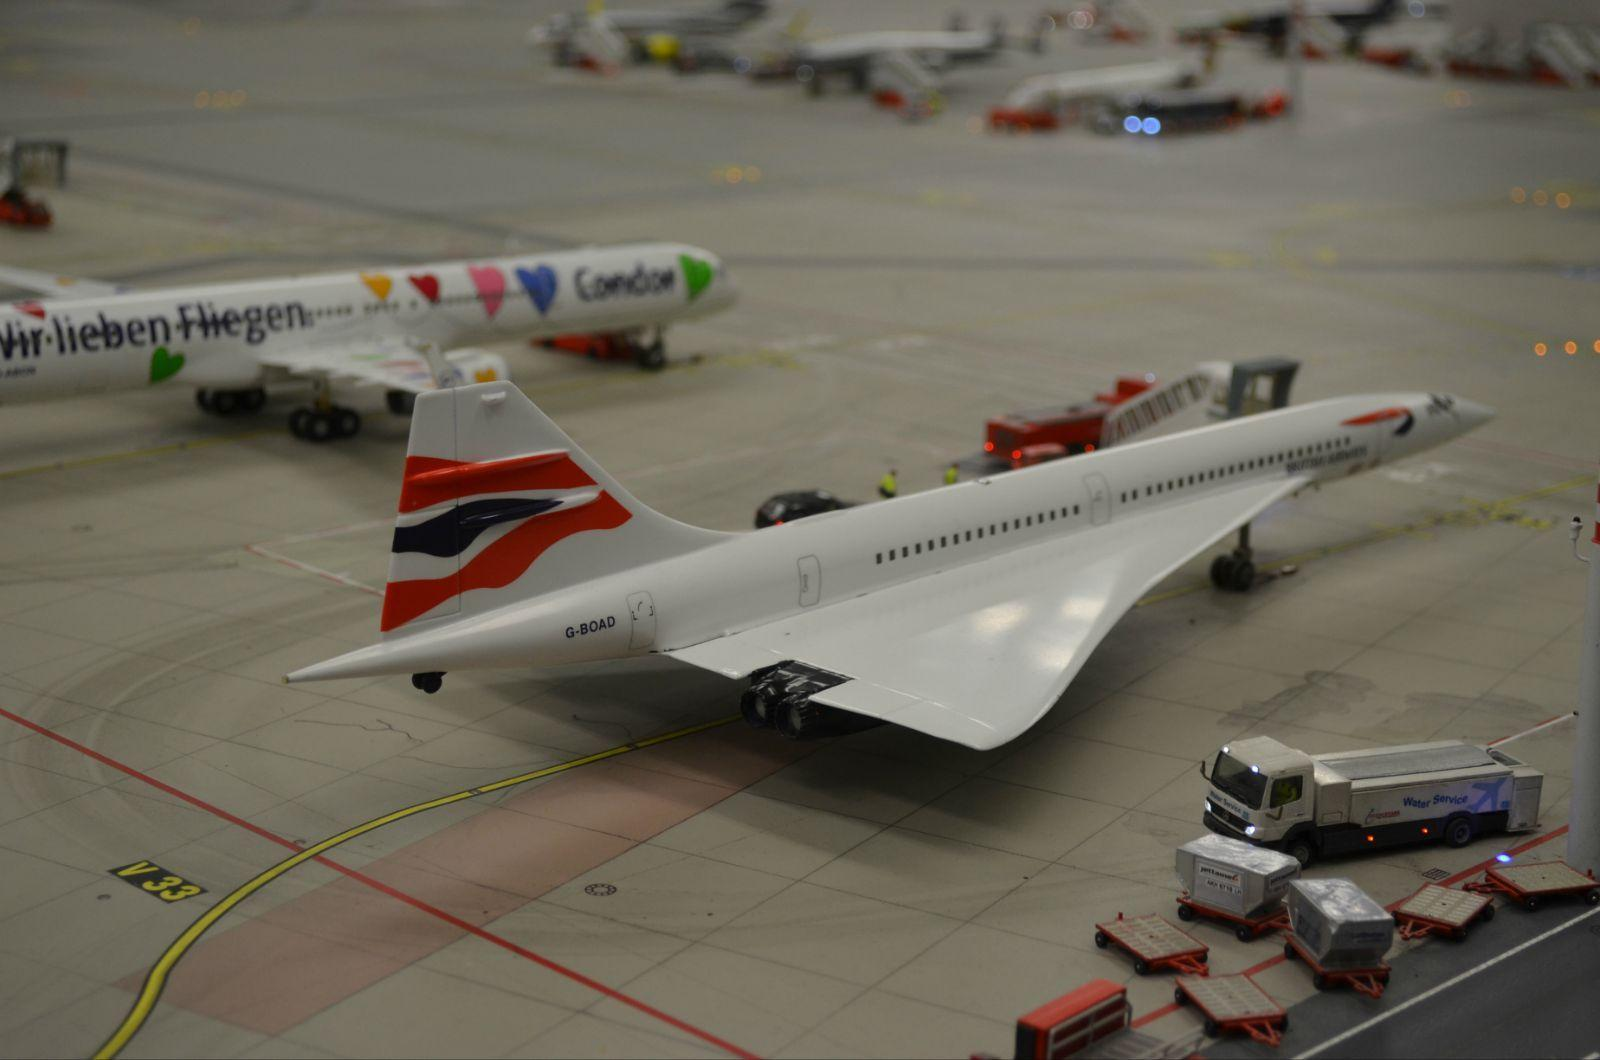airplane: (257, 341, 1518, 741)
